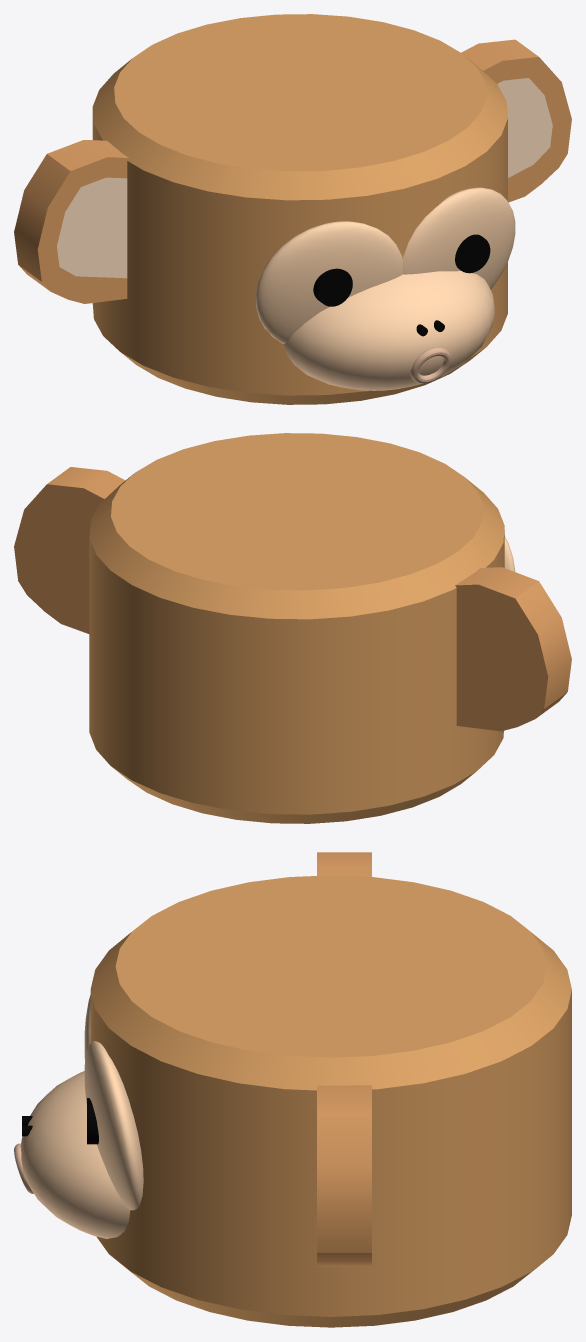
The model's file is Totem6.fbx.
3 renders of one model, top to bottom at view 1: azimuth 30°, elevation 25°; view 2: azimuth 150°, elevation 25°; view 3: azimuth 270°, elevation 25°, orthographic. The views are drawn at different scales.
Parts seen in each view (by area): view 1: Cylinder, Sphere, Sphere.001, Cube, Cube.001, Cylinder.001, Torus; view 2: Cylinder, Cube; view 3: Cylinder, Cube, Sphere, Sphere.001.
Boxes of the visible parts, x1,y1,x2,y2 form: Cylinder: [92, 14, 507, 404]; Sphere: [284, 271, 494, 390]; Sphere.001: [256, 187, 515, 343]; Cube: [14, 39, 571, 303]; Cube.001: [57, 78, 552, 278]; Cylinder.001: [313, 234, 490, 306]; Torus: [410, 347, 450, 383]; Cylinder: [89, 433, 504, 823]; Cube: [14, 467, 571, 731]; Cylinder: [90, 875, 571, 1327]; Cube: [317, 852, 371, 1266]; Sphere: [20, 1071, 130, 1238]; Sphere.001: [84, 995, 143, 1210].
Bounding box in the file's own units: 296 × 123 × 232.
